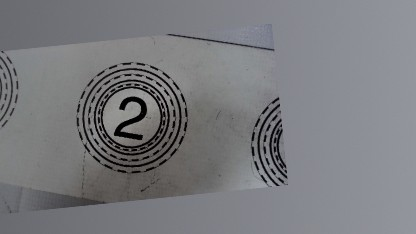2r: (70, 56, 194, 180)
